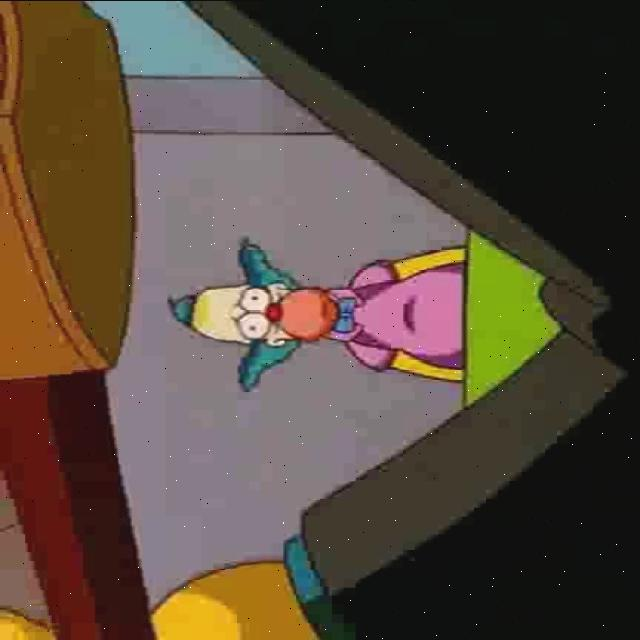Krusty the Clown: (166, 238, 350, 392)
